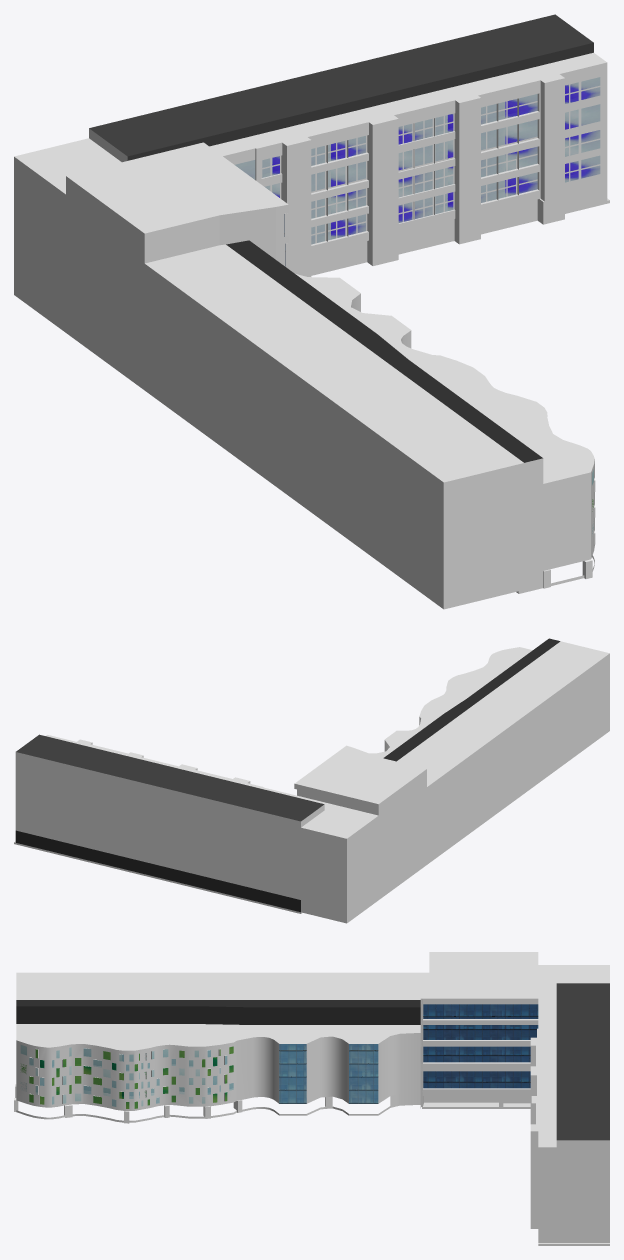
File: Building7n4_Compressed.obj
3 views of the same model, one above another, from view 1: azimuth 30°, elevation 25°; view 2: azimuth 150°, elevation 25°; view 3: azimuth 270°, elevation 25° (orthographic). The views are drawn at different scales.
Visible parts, largest first — view 1: Mesh1 Model; view 2: Mesh1 Model; view 3: Mesh1 Model.
Part boxes in pixels (x1,y1,x2,y2): Mesh1 Model: (14, 14, 609, 609); Mesh1 Model: (14, 638, 609, 923); Mesh1 Model: (14, 952, 609, 1245).
Bounding box in the file's own units: 399 × 112 × 548.
9 materials, 6 textured.
